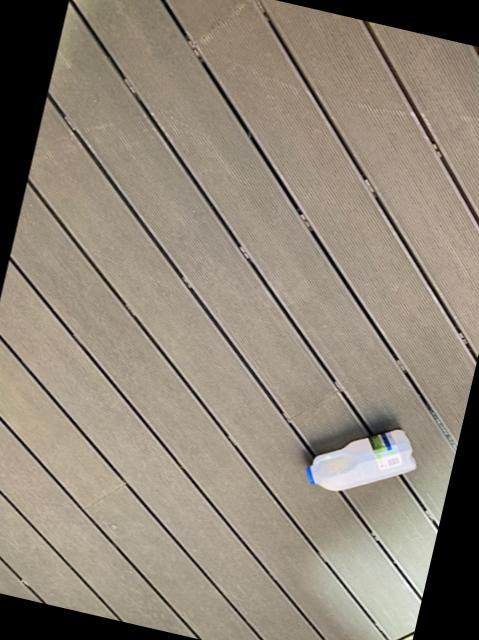plastic: (304, 430, 413, 491)
